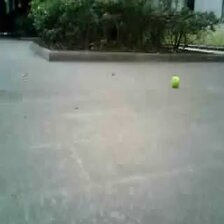tennis: (170, 76, 180, 86)
